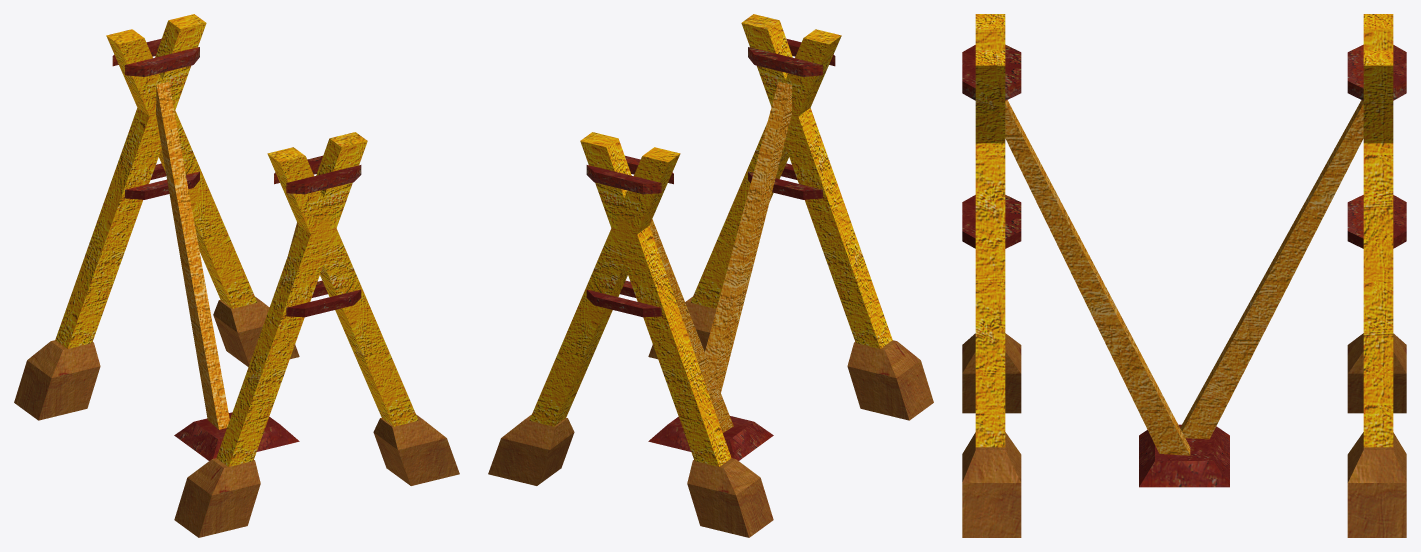
Rendered from stand.glb.
3 renders of one model, left to right at view 1: azimuth 30°, elevation 25°; view 2: azimuth 150°, elevation 25°; view 3: azimuth 270°, elevation 25°, orthographic. The views are drawn at different scales.
Parts seen in each view (by area): view 1: stand; view 2: stand; view 3: stand.
Boxes of the visible parts, box(x1,y1,x2,y2) form: stand: box(14, 14, 459, 537); stand: box(488, 14, 933, 537); stand: box(962, 14, 1406, 537).
Size of the model in its own units: 5 by 6.41 by 6.13.
4 materials, 4 textured.
